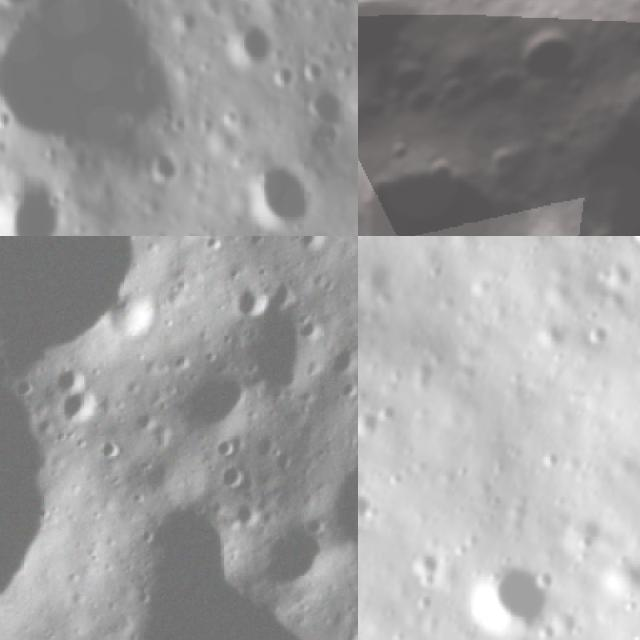crater: (0, 0, 180, 162), (358, 106, 575, 236), (0, 236, 170, 398), (540, 28, 640, 236), (302, 395, 358, 610), (496, 6, 595, 104), (172, 358, 268, 456), (358, 0, 435, 102), (474, 560, 546, 625), (250, 160, 318, 228), (431, 30, 495, 95), (0, 179, 72, 236), (394, 75, 449, 131), (218, 278, 274, 333), (306, 86, 351, 142), (56, 388, 105, 437), (228, 24, 276, 70), (145, 148, 187, 193), (47, 361, 90, 404), (358, 400, 392, 453), (482, 137, 524, 179), (212, 460, 254, 502), (91, 432, 133, 474), (382, 133, 418, 169), (262, 66, 298, 92), (297, 59, 321, 92), (358, 487, 375, 525)
